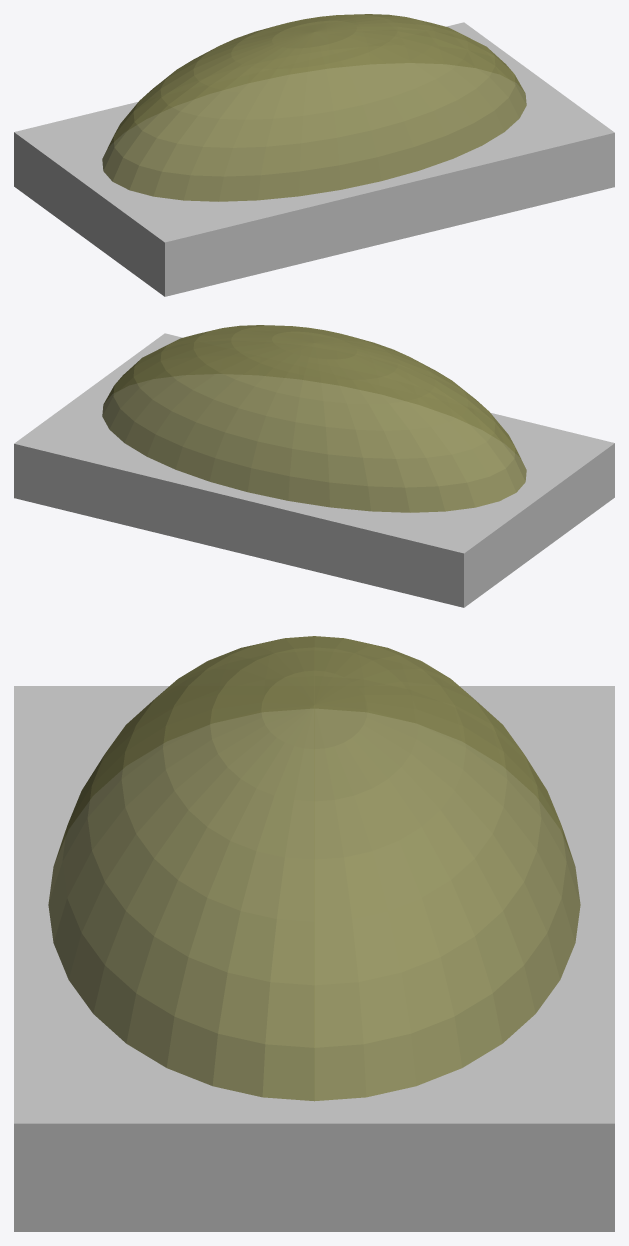
The model's file is DoorLigth.obj.
3 views of the same model, one above another, from view 1: azimuth 30°, elevation 25°; view 2: azimuth 150°, elevation 25°; view 3: azimuth 270°, elevation 25° (orthographic). The views are drawn at different scales.
Parts seen in each view (by area): view 1: Sphere, Cube; view 2: Sphere, Cube; view 3: Sphere, Cube.
Part boxes in pixels (x1,y1,x2,y2): Sphere: (102,14,526,201); Cube: (14,22,614,296); Sphere: (102,325,526,512); Cube: (14,333,614,607); Sphere: (48,636,580,1101); Cube: (14,686,614,1231).
Size of the model in its own units: 3.44 by 1.13 by 2.
